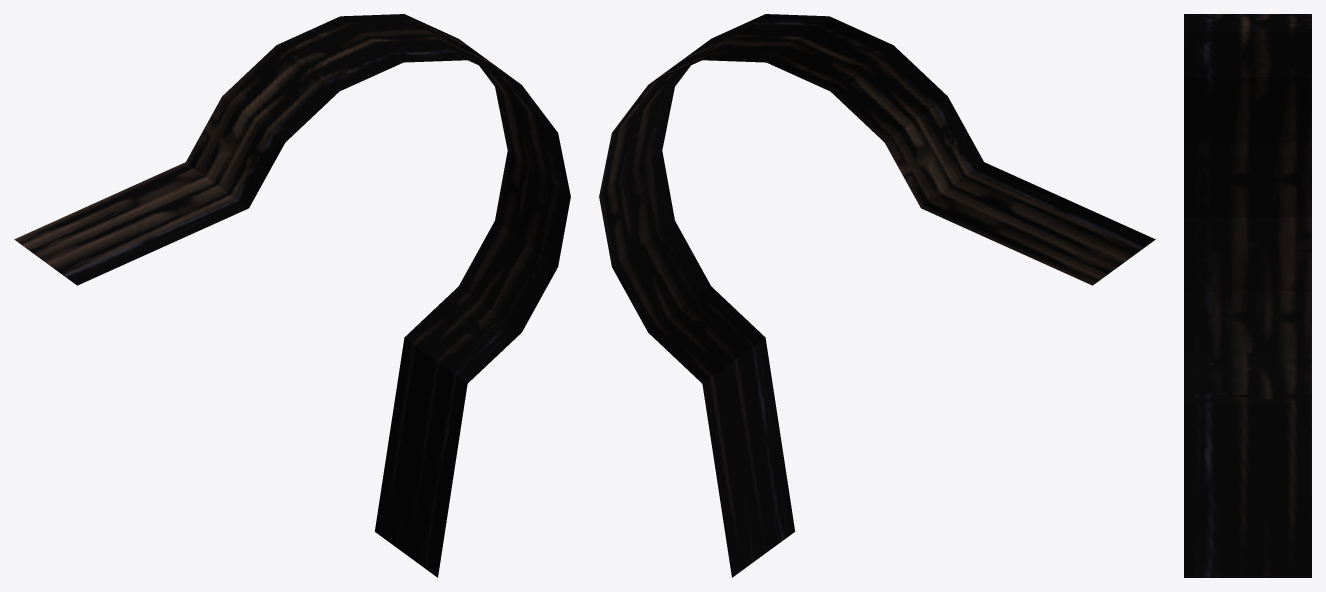
The model's file is collide_ColumnCorner0.obj.
The picture shows the model from 3 angles, left to right: view 1: azimuth 30°, elevation 25°; view 2: azimuth 150°, elevation 25°; view 3: azimuth 270°, elevation 25°; orthographic projection.
Visible parts, largest first — view 1: collide_ColumnCorner0_collide_Column0_C; view 2: collide_ColumnCorner0_collide_Column0_C; view 3: collide_ColumnCorner0_collide_Column0_C.
Part boxes in pixels (bbox=[...]): collide_ColumnCorner0_collide_Column0_C: bbox=[14, 14, 570, 577]; collide_ColumnCorner0_collide_Column0_C: bbox=[599, 14, 1155, 577]; collide_ColumnCorner0_collide_Column0_C: bbox=[1184, 14, 1311, 577].
Bounding box in the file's own units: 201 × 204 × 44.53.
